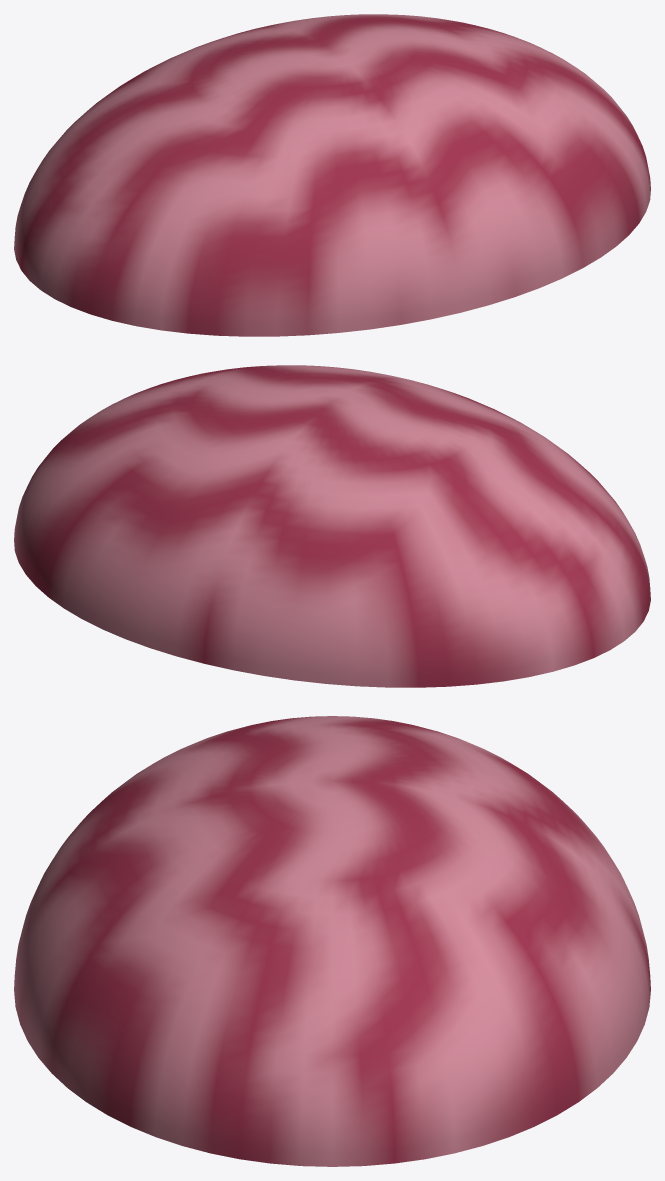
Rendered from rhodochrosite.glb.
3 views of the same model, one above another, from view 1: azimuth 30°, elevation 25°; view 2: azimuth 150°, elevation 25°; view 3: azimuth 270°, elevation 25° (orthographic). The views are drawn at different scales.
Parts seen in each view (by area): view 1: rhodochrosite; view 2: rhodochrosite; view 3: rhodochrosite.
Boxes of the visible parts, <box> form: rhodochrosite: <box>14,14,650,336</box>; rhodochrosite: <box>14,365,650,687</box>; rhodochrosite: <box>14,716,650,1166</box>.
Bounding box in the file's own units: 0.25 × 0.0688 × 0.19.
